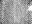person: (27, 4, 31, 9)
